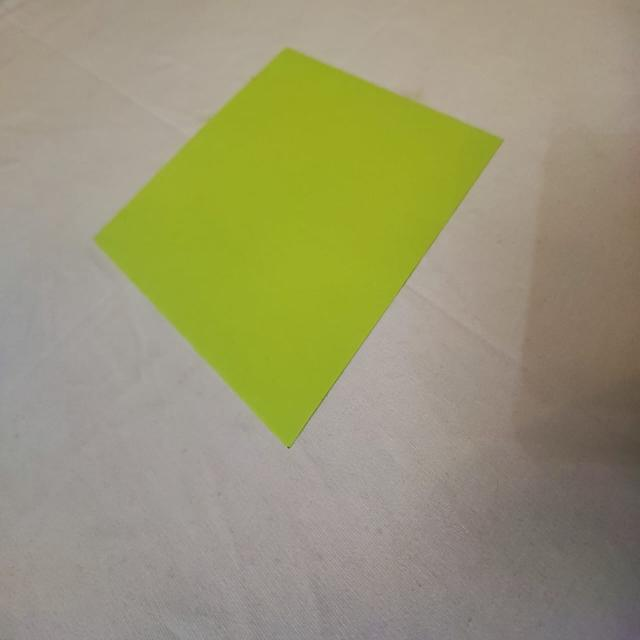Box: (92, 48, 504, 451)
